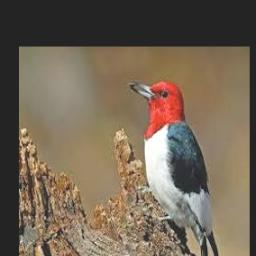Woodpecker: (130, 80, 220, 256)
